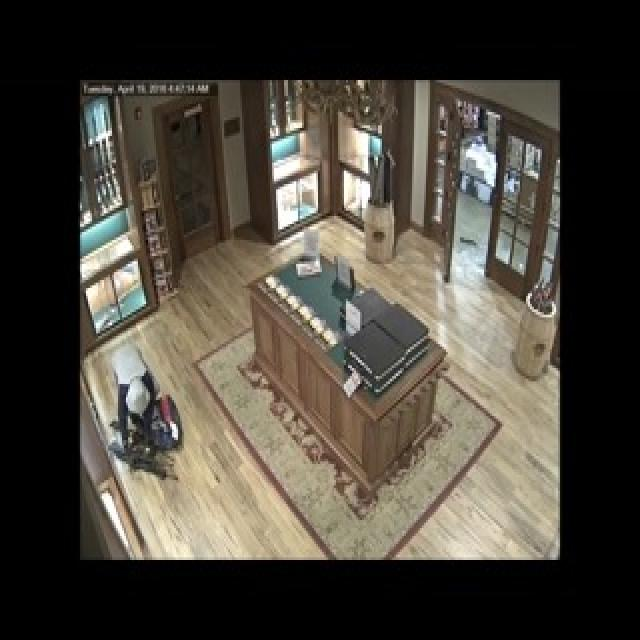thief: (113, 338, 177, 491)
